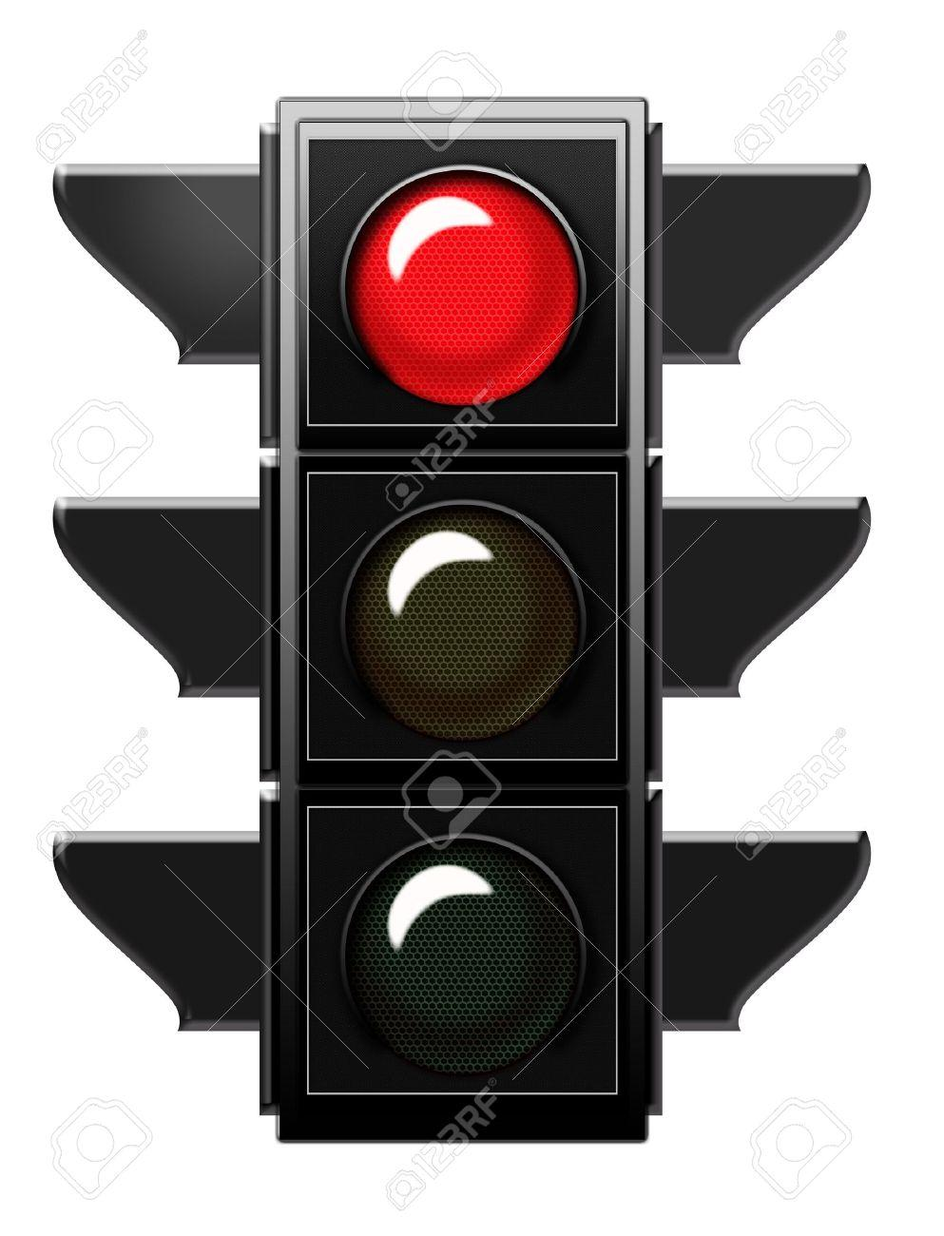red: (266, 95, 669, 1125)
